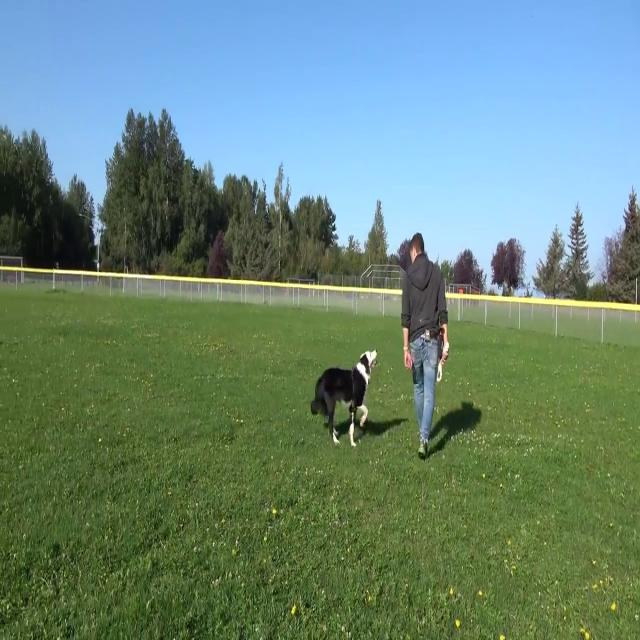Unleashed_Dog: (311, 350, 427, 448)
